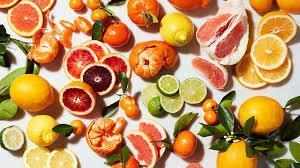lemon: (160, 12, 193, 47), (27, 115, 59, 147), (46, 148, 77, 168), (23, 146, 51, 168)
